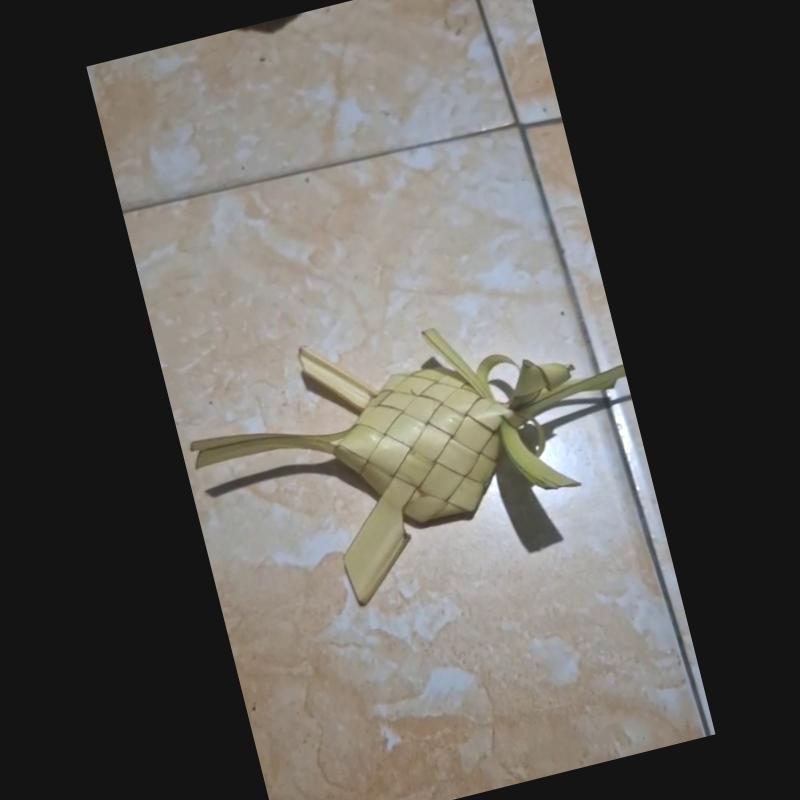Tipat Dampulan: (190, 323, 622, 615)
